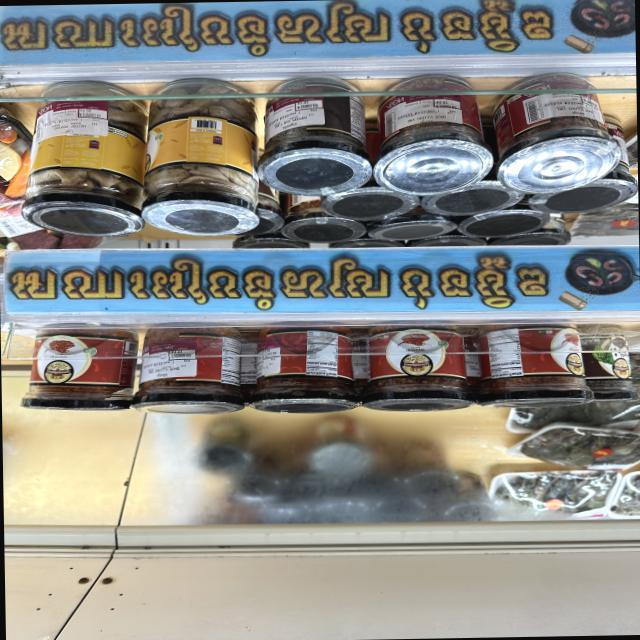Yolov11_80vkh: (6, 253, 549, 310)
